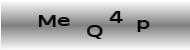4: (108, 10, 124, 23)
M: (38, 13, 56, 28)
Q: (86, 23, 103, 39)
e: (58, 16, 70, 26)
p: (136, 18, 150, 33)
